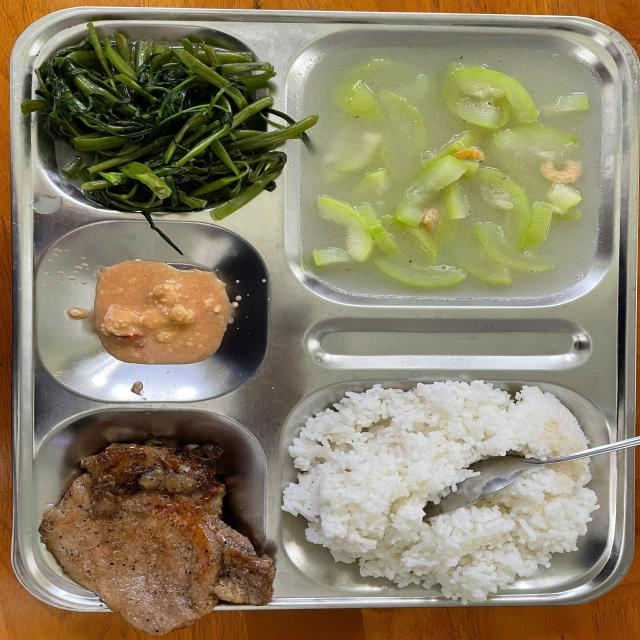canhbixanh: (298, 41, 609, 293)
rauxao: (25, 30, 281, 210)
salad: (292, 393, 597, 580)
suonram: (45, 435, 270, 626)
